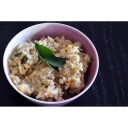venpongal: (13, 42, 83, 96)
